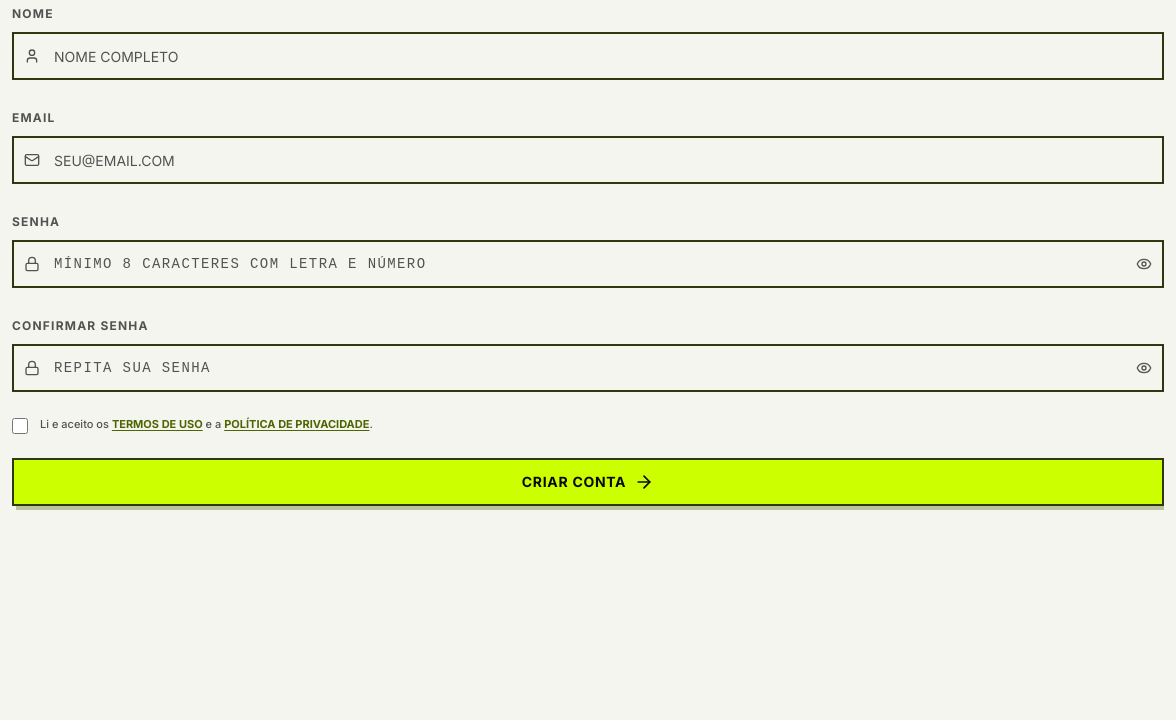
Test case: RegisterForm › deve exibir erros de validação local se dados inválidos
Click the button "Criar Conta".
click(588, 482)  # box x1=12 y1=458 x2=1164 y2=506
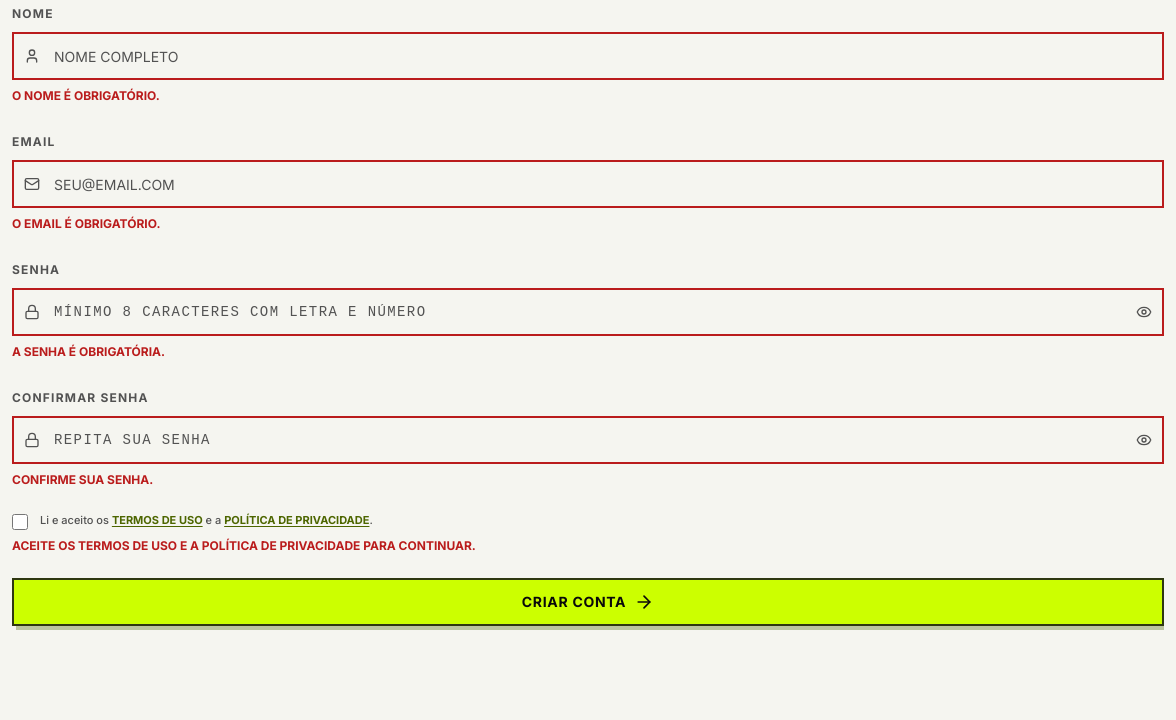
Now the text "O nome é obrigatório." is shown, box x1=12 y1=88 x2=160 y2=103
Now the text "O email é obrigatório." is shown, box x1=12 y1=216 x2=160 y2=231
Now the text "A senha é obrigatória." is shown, box x1=12 y1=344 x2=165 y2=359
